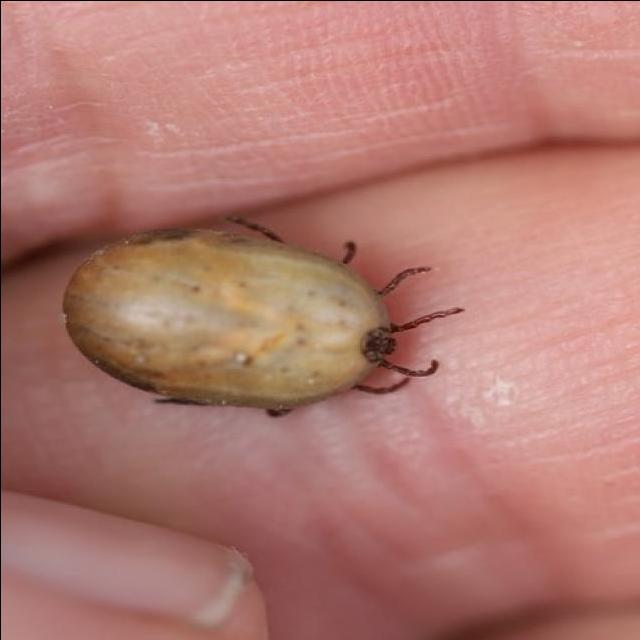Dermacentor Reticulatus-F-Fed: (61, 215, 462, 417)
